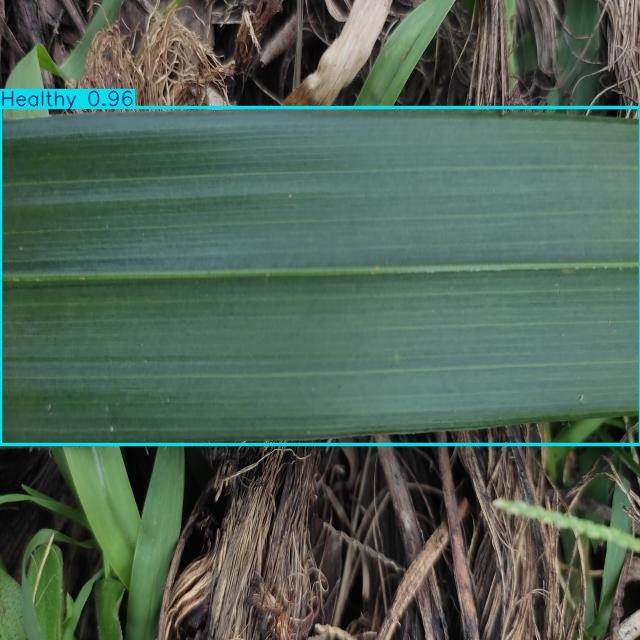Healthy: (0, 107, 640, 445)
